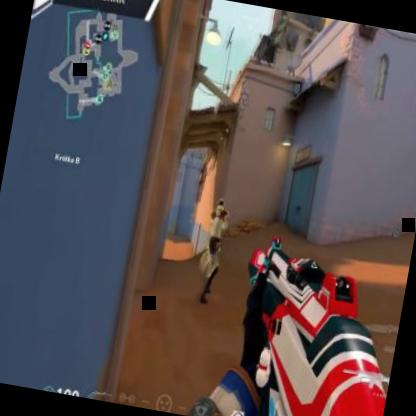enemy: (192, 193, 232, 306)
enemy_head: (216, 198, 226, 209)
